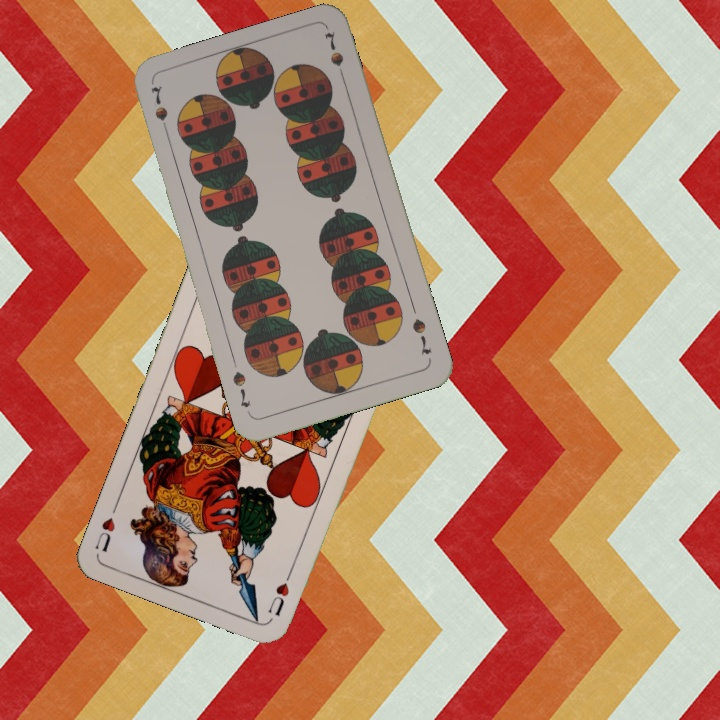HU: (263, 564, 296, 619)
S7: (146, 81, 172, 139), (408, 314, 434, 358)
